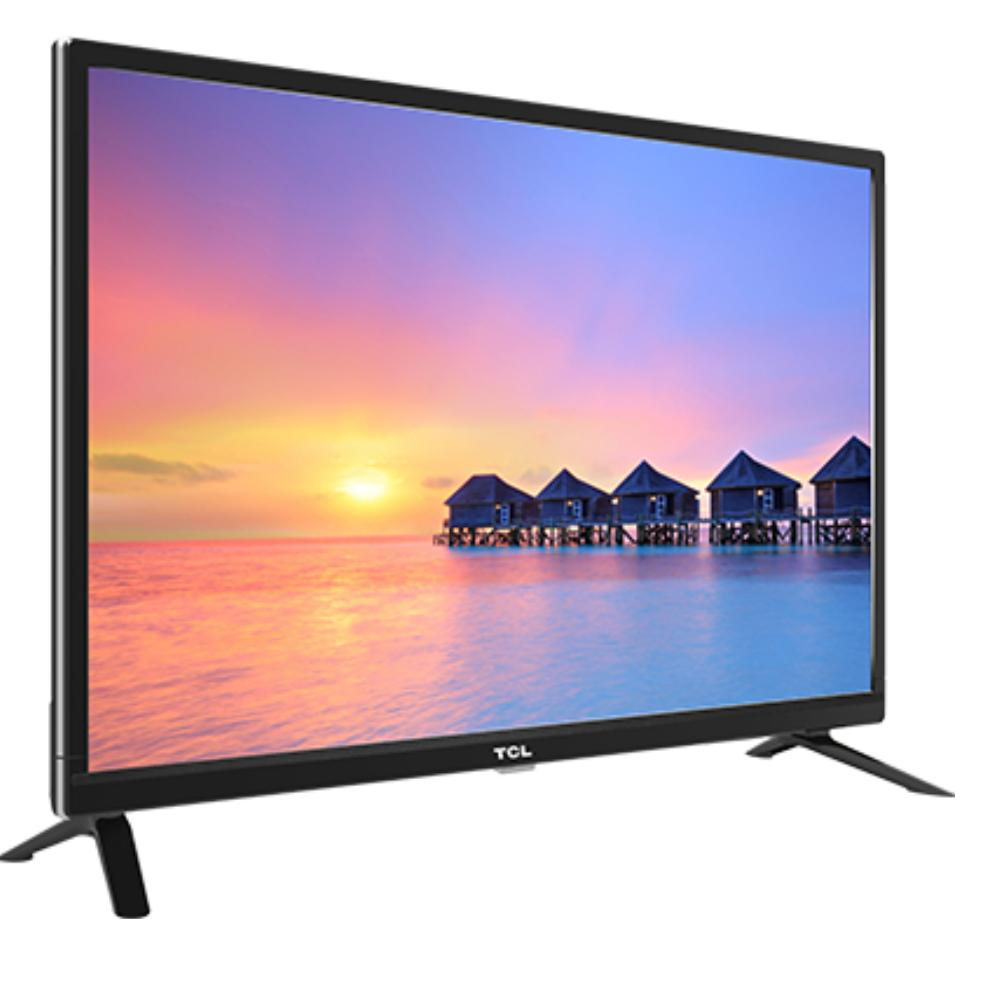tv: (17, 34, 971, 915)
